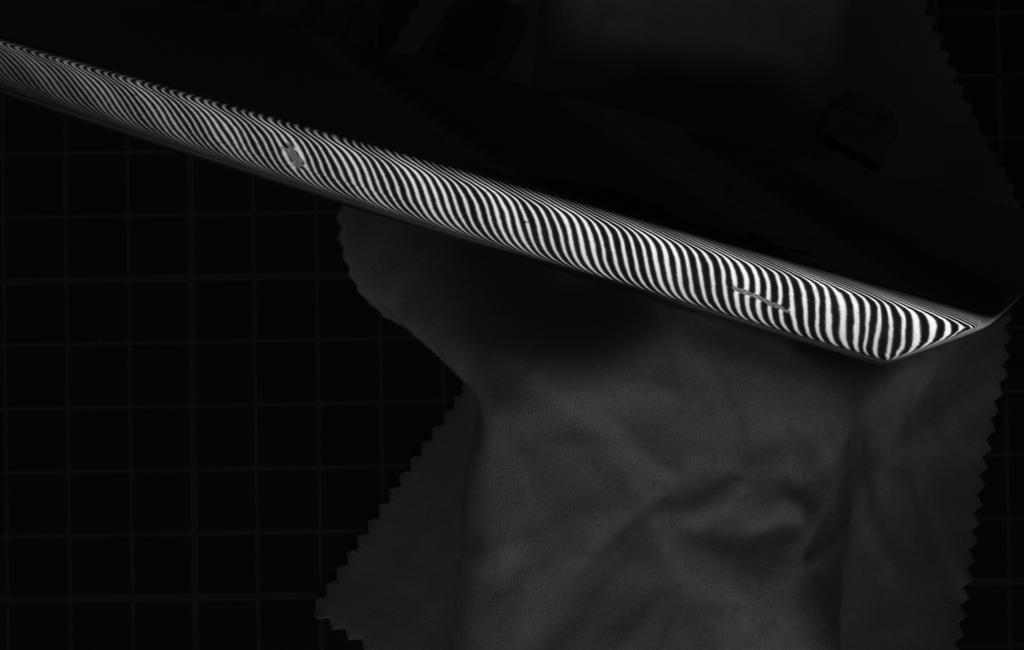Scratch: (718, 279, 797, 317), (274, 136, 312, 174)
